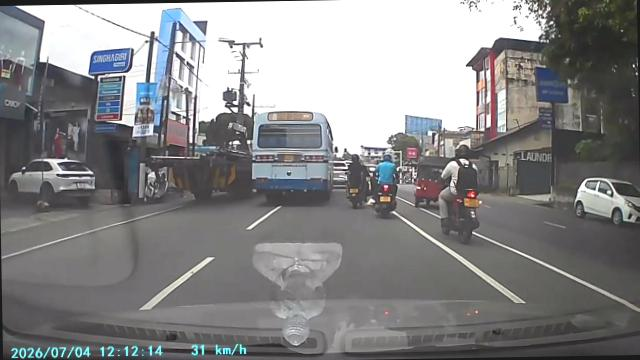illegal overtaking: (411, 148, 440, 208)
